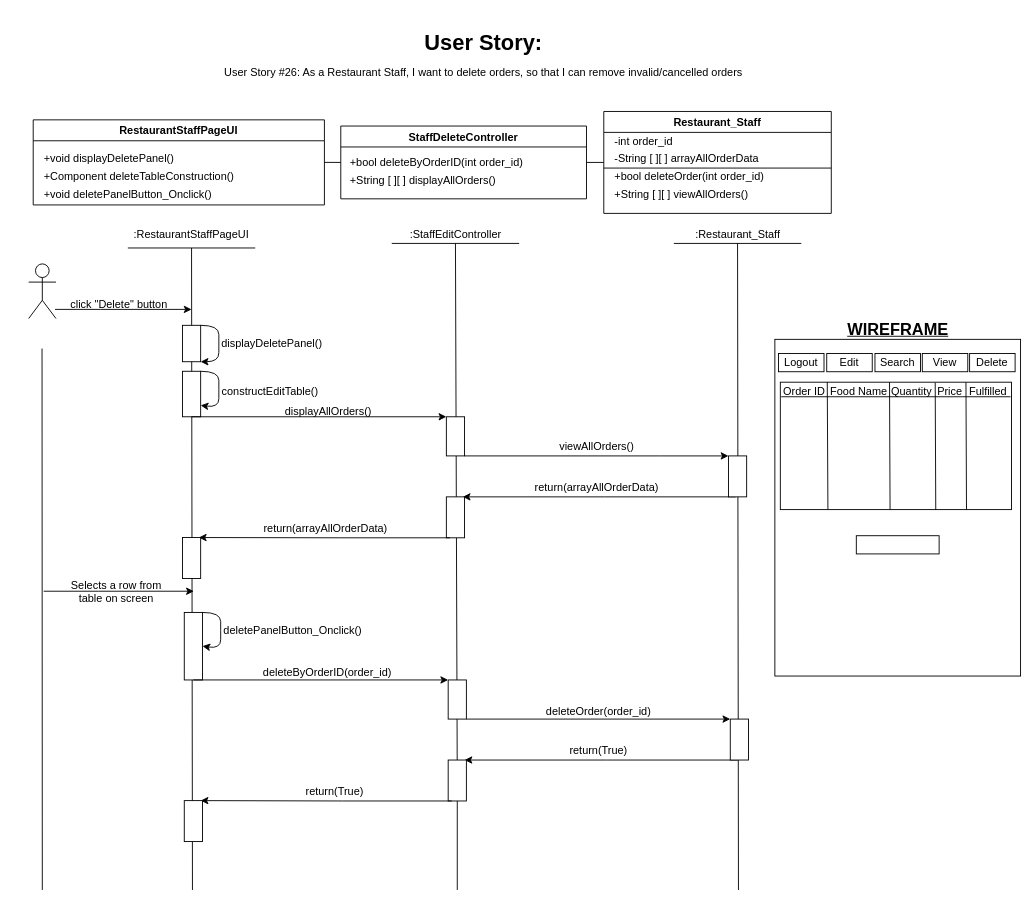
The diagram is 1036 pixels wide and 906 high, and some of its shapes have lost their labels. Each missing label, with the centre of its shape:
Delete Order: (897,544)
Restaurant Staff: (42,290)
